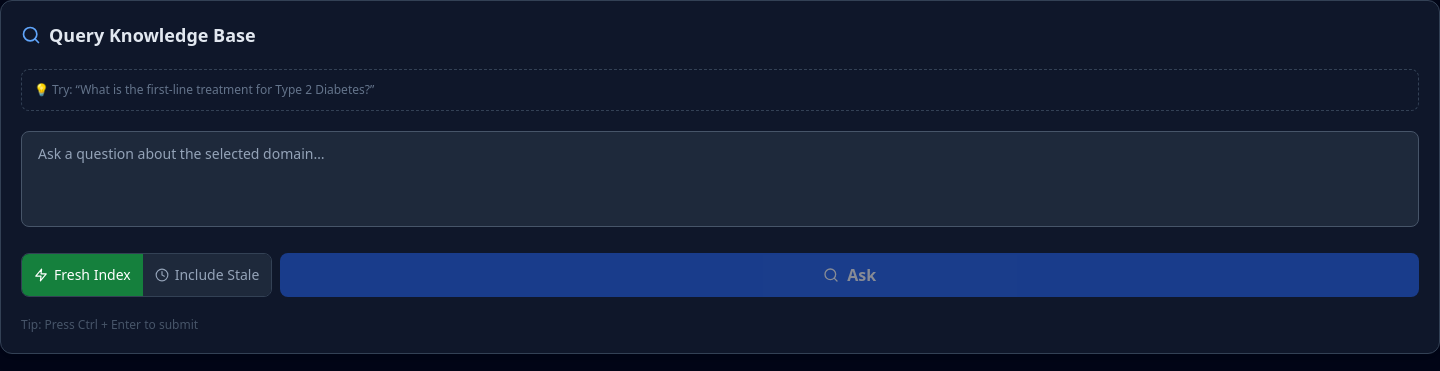
Test case: QueryPanel — submit button state › is enabled after typing a question
The image size is (1440, 371).
Type "What treats diabetes?" into the text box.
click(720, 179); type("What treats diabetes?")  # box [21,131,1419,227]
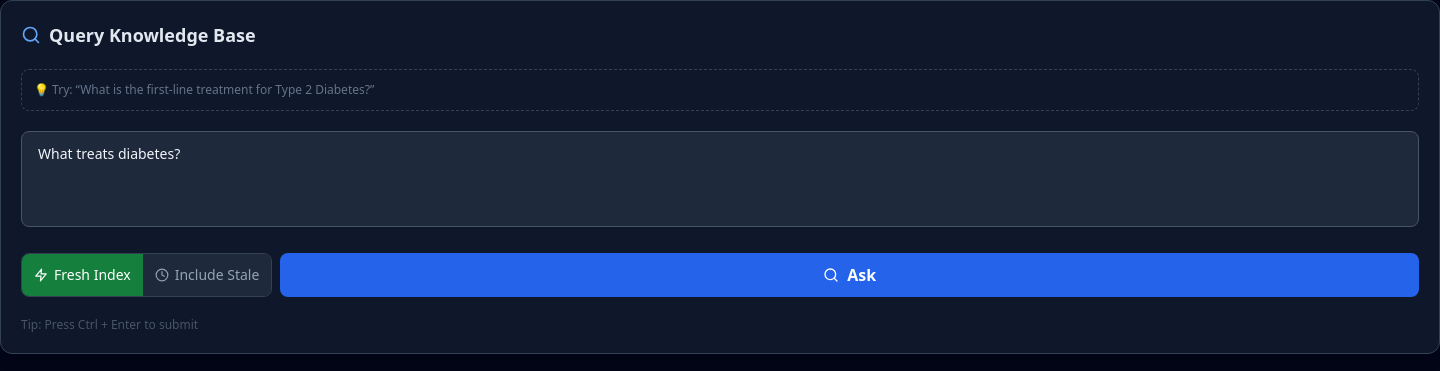
Result: the button "Ask" is enabled at [280,253,1419,297]
